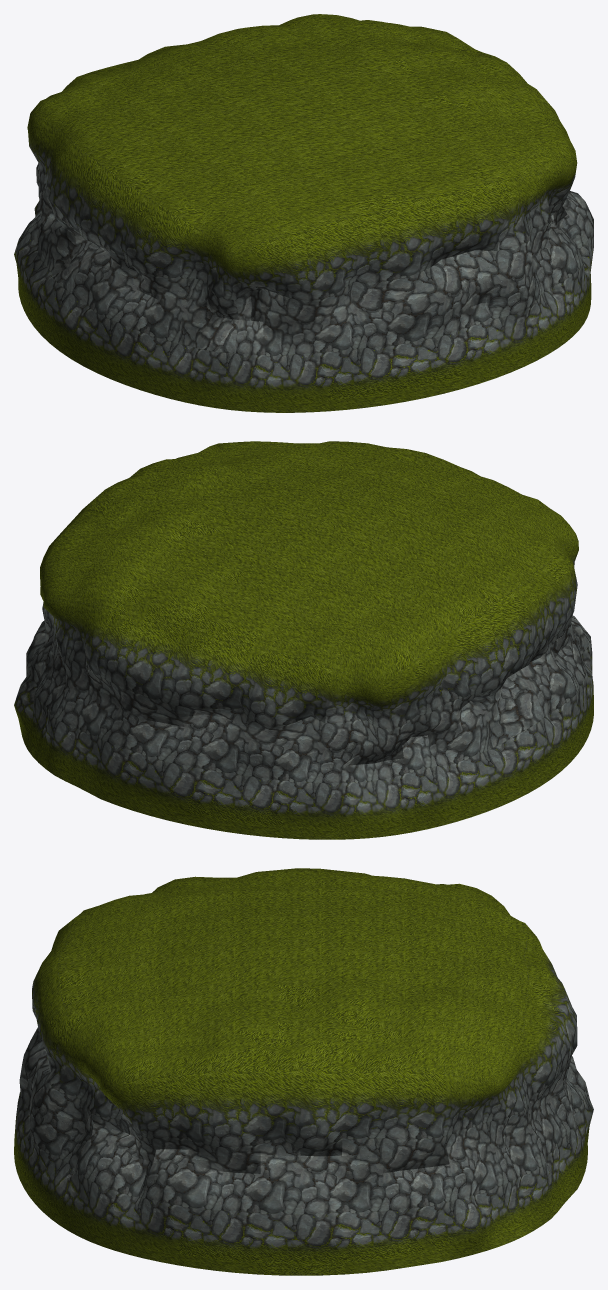
File: PlatformGrass5.obj
3 views of the same model, one above another, from view 1: azimuth 30°, elevation 25°; view 2: azimuth 150°, elevation 25°; view 3: azimuth 270°, elevation 25° (orthographic). The views are drawn at different scales.
Parts seen in each view (by area): view 1: Mesh; view 2: Mesh; view 3: Mesh.
Part boxes in pixels (box(x1,y1,x2,y2)): Mesh: box(14, 14, 593, 412); Mesh: box(14, 441, 593, 839); Mesh: box(14, 868, 593, 1275).
Size of the model in its own units: 40.32 by 15.85 by 39.81.
